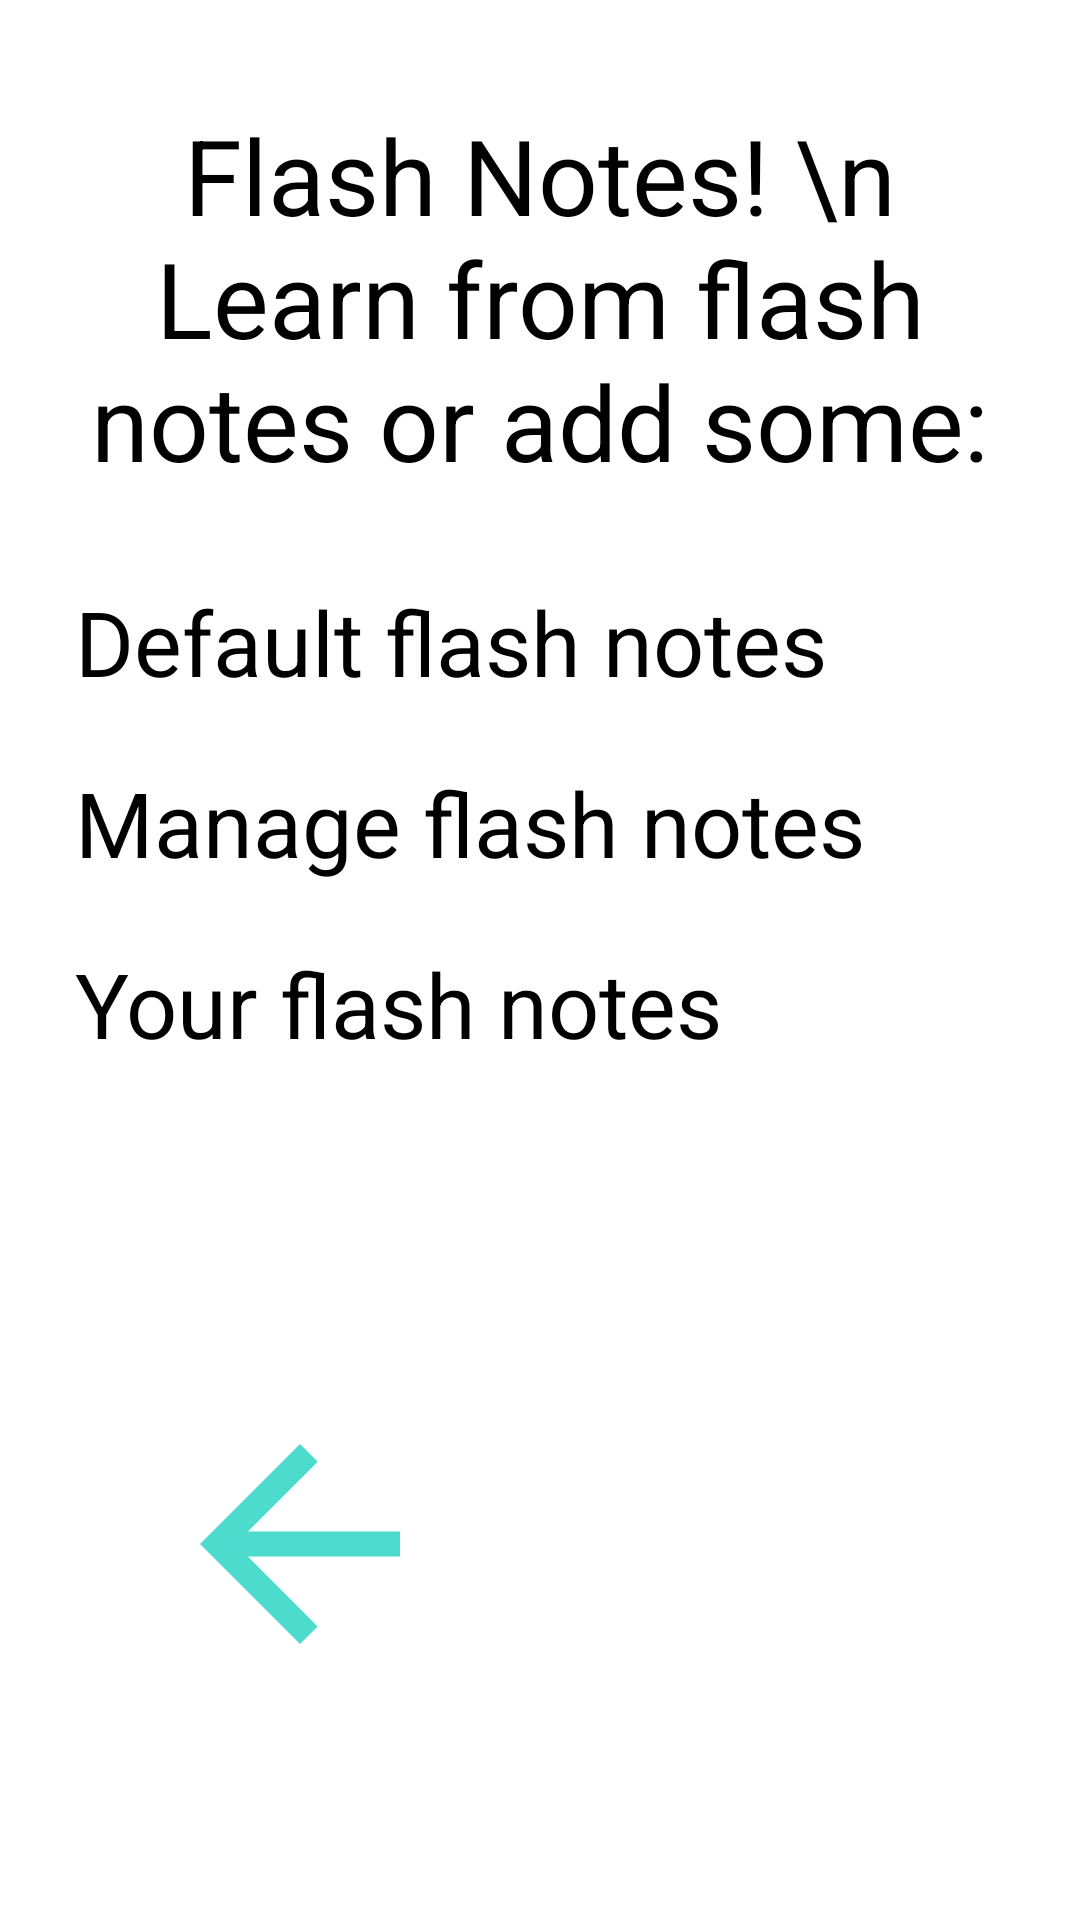

Named icons in this screenshot (1080px x 1920px) and their bounding boxes, (x1, y1, x2, y2):
arrow back: (200, 1444, 400, 1644)
